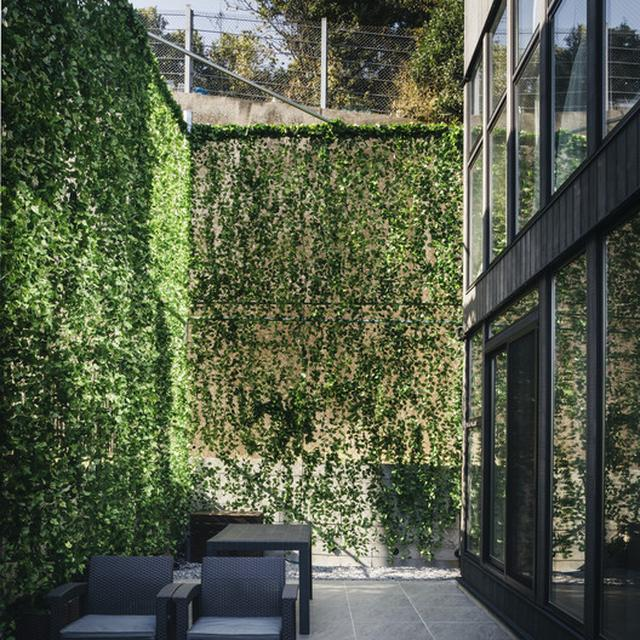building: (457, 0, 640, 640)
